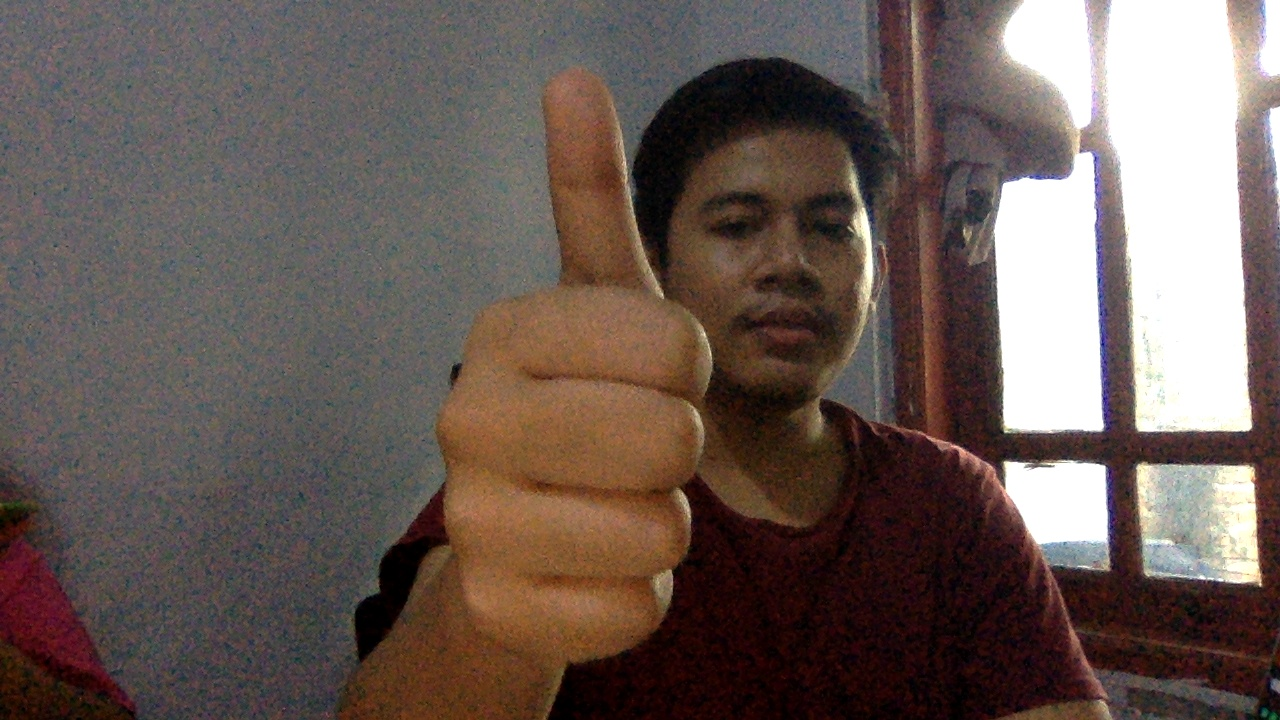thumbsup: (428, 48, 716, 675)
